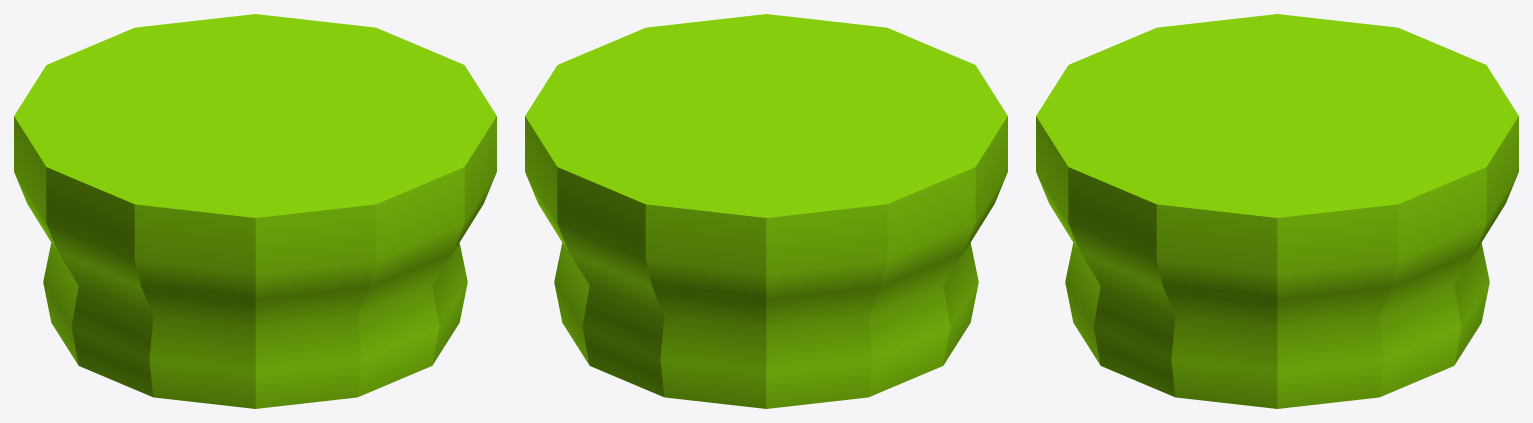
Rendered from Wall_Pillar_01_Small.fbx.
3 views of the same model, side by side, from view 1: azimuth 30°, elevation 25°; view 2: azimuth 150°, elevation 25°; view 3: azimuth 270°, elevation 25° (orthographic).
Visible parts, largest first — view 1: Wall_Pillar_01_Small; view 2: Wall_Pillar_01_Small; view 3: Wall_Pillar_01_Small.
Boxes of the visible parts, x1,y1,x2,y2 form: Wall_Pillar_01_Small: [14, 14, 496, 408]; Wall_Pillar_01_Small: [525, 14, 1007, 408]; Wall_Pillar_01_Small: [1036, 14, 1518, 408].
Size of the model in its own units: 227 by 108 by 227.
